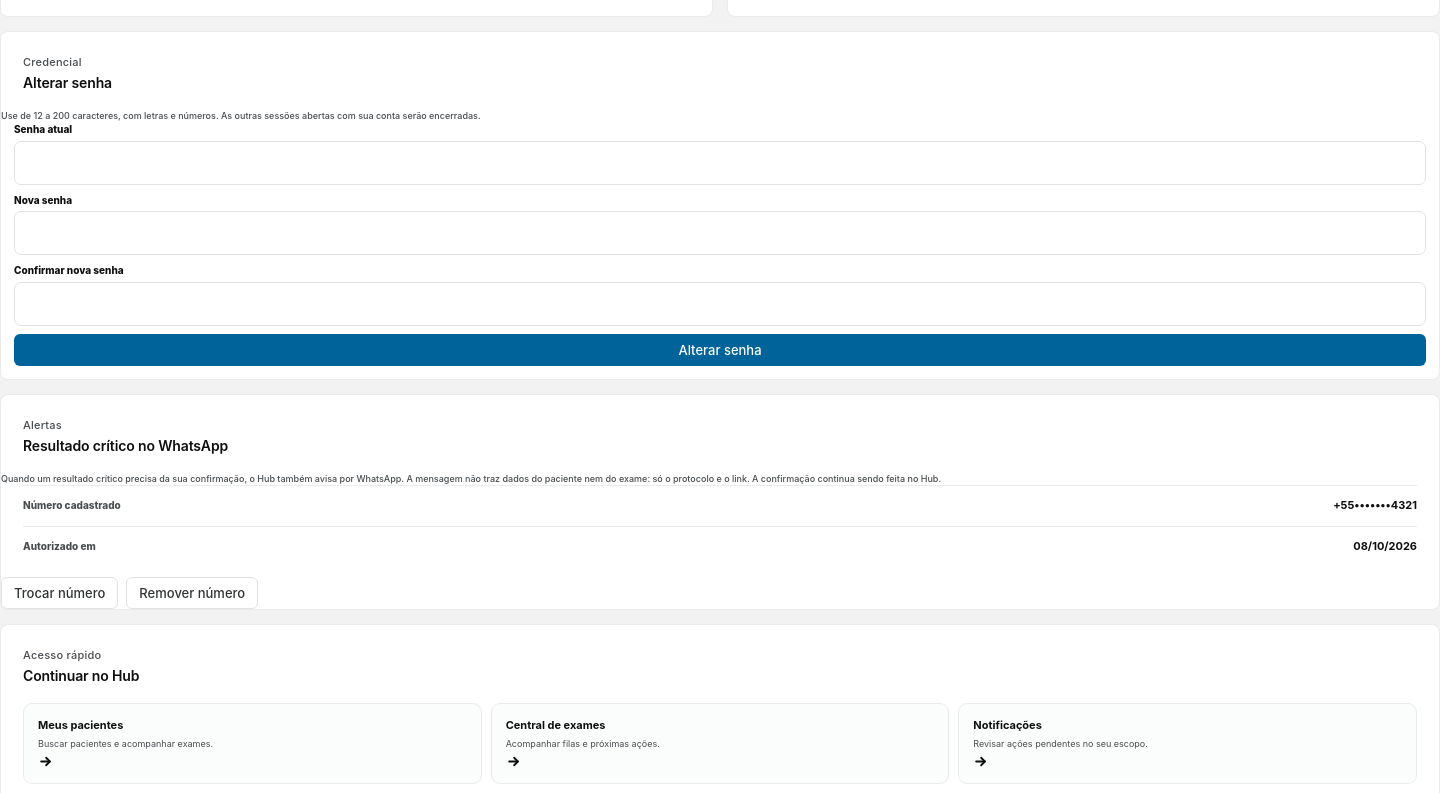
AccountView › critical-alert contact (PROD-402) › replaces or removes a registered number and keeps errors next to the action
(page scrolled)
Click the button "Trocar número".
click(60, 593)  # box [1, 577, 118, 609]
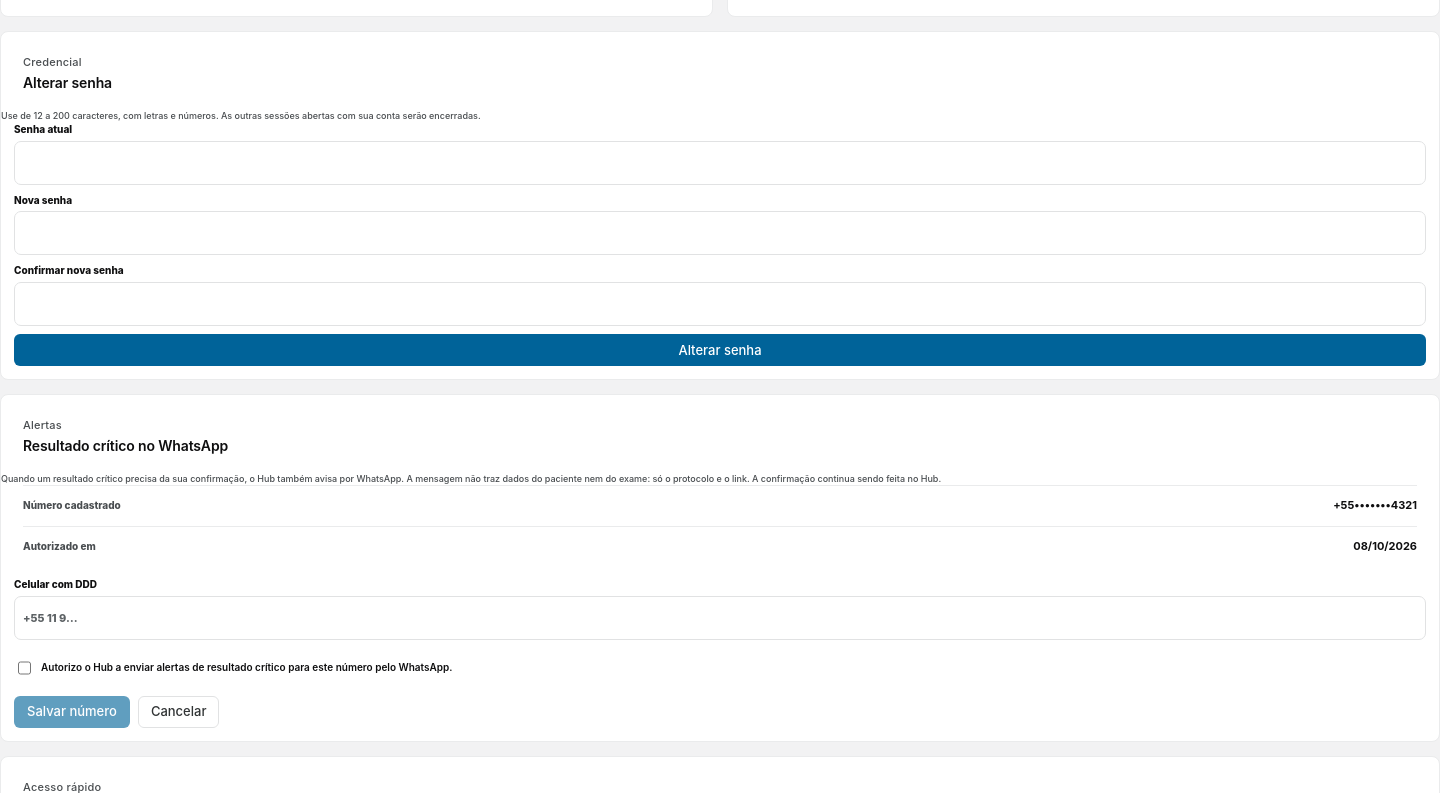
Expected: the form named "Cadastrar número para alertas" is shown, [1, 577, 1439, 741]
Click the button "Cancelar".
click(179, 712)  # box [138, 696, 220, 728]
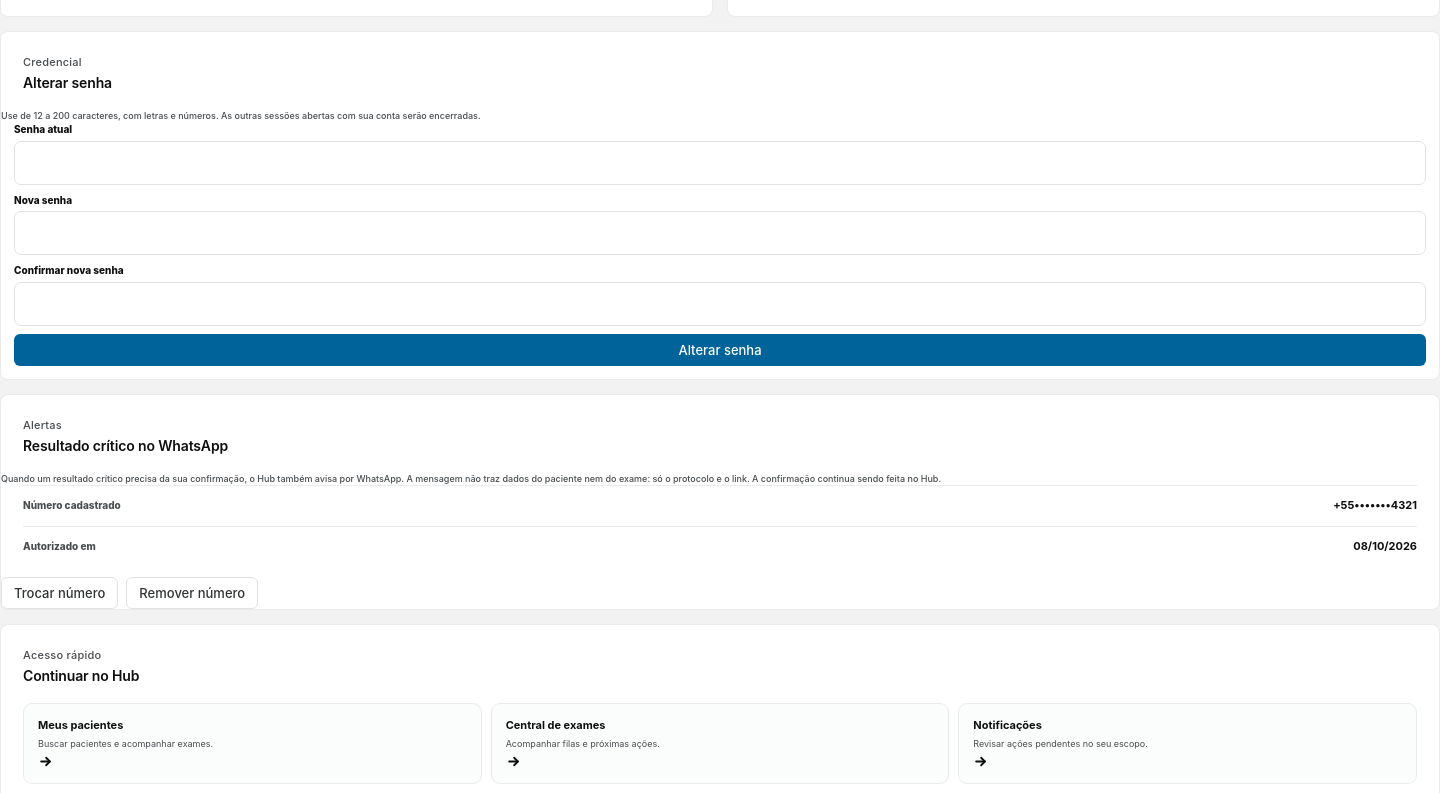
Click the button "Remover número".
click(192, 593)  # box [126, 577, 258, 609]
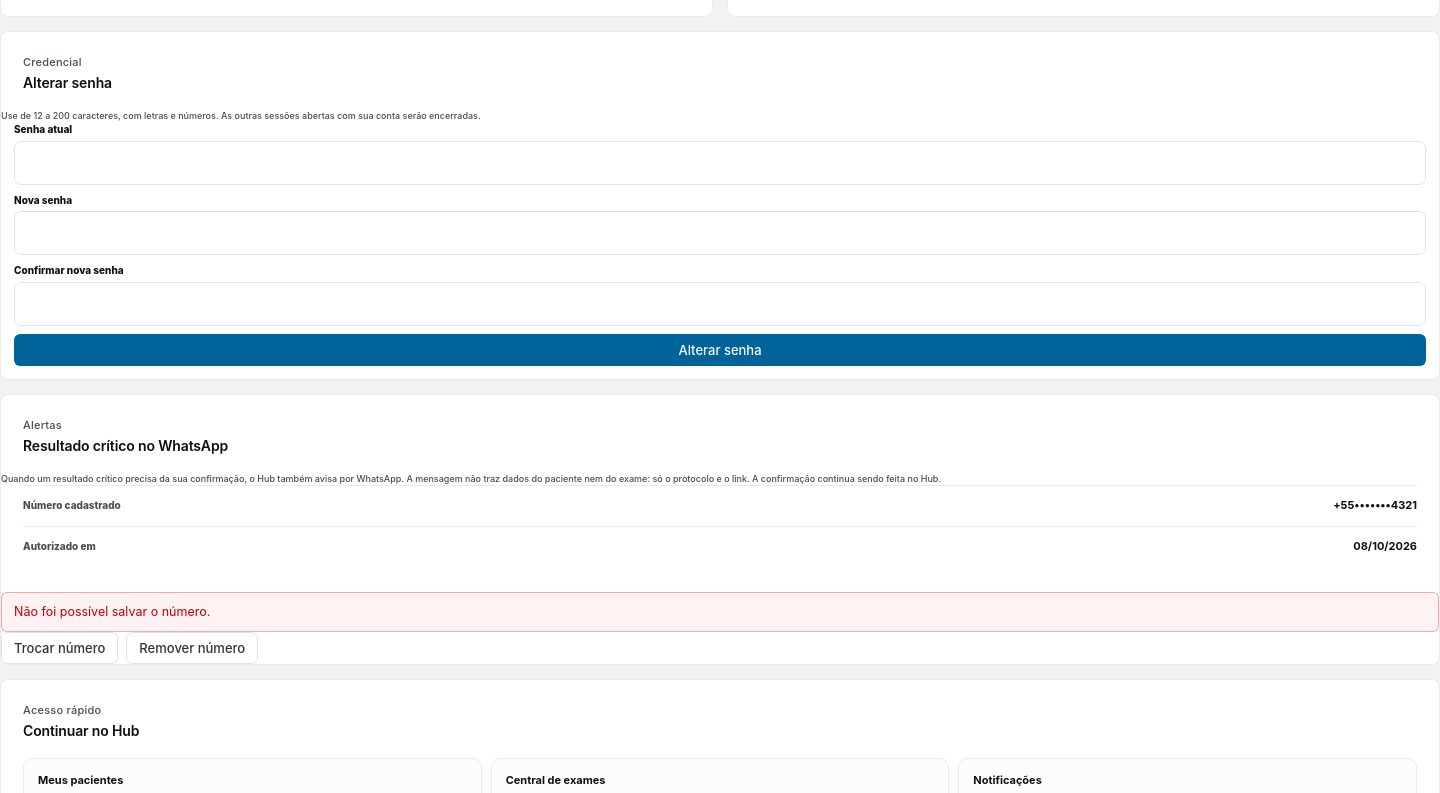
Expected: the message reads "Não foi possível salvar o número.", [14, 604, 210, 619]
Click the button "Remover número".
click(192, 648)  # box [126, 632, 258, 664]
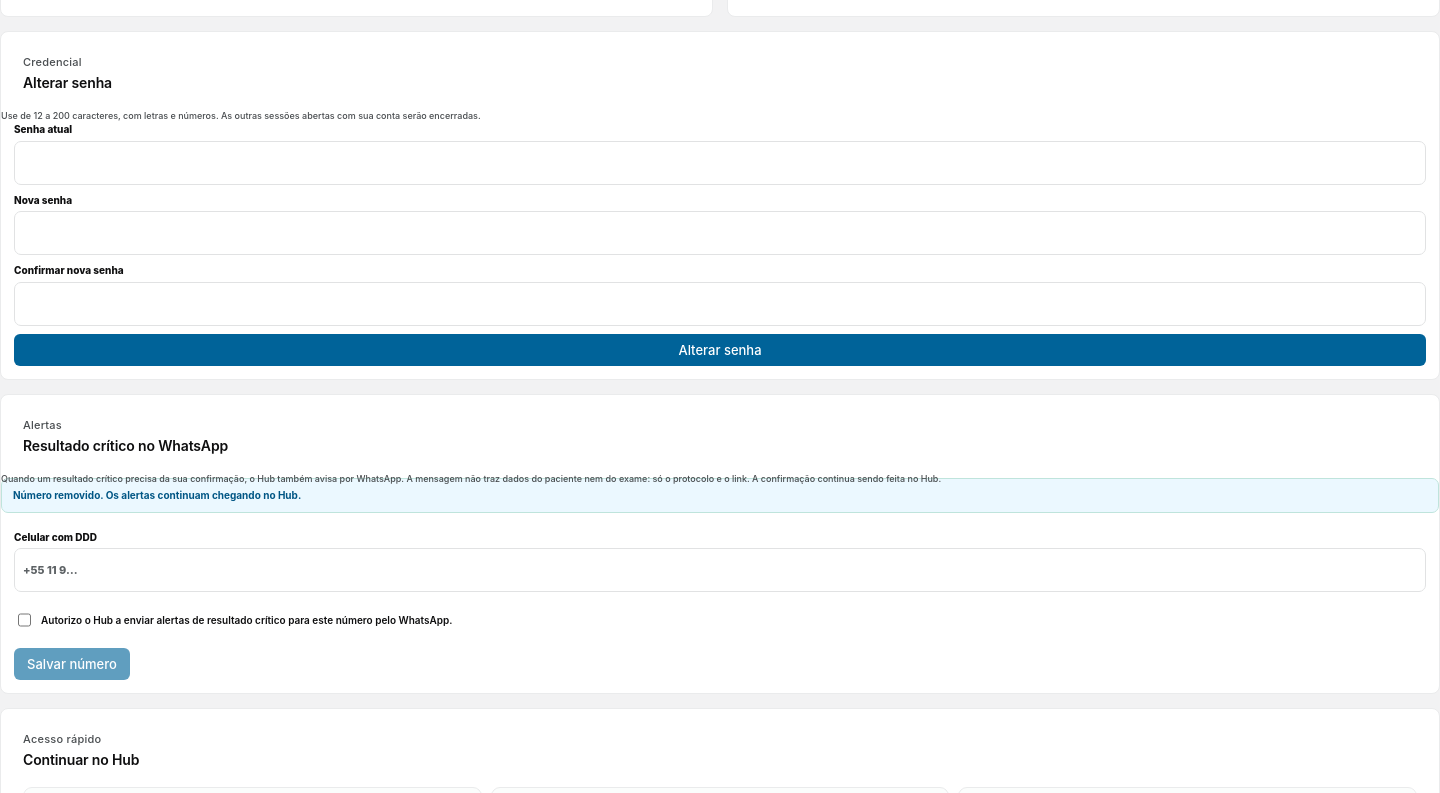
Expected: the message shows "Número removido", [13, 489, 301, 501]
Expected: the form named "Cadastrar número para alertas" is shown, [1, 530, 1439, 693]
Expected: the text "+55•••••••4321" is gone
